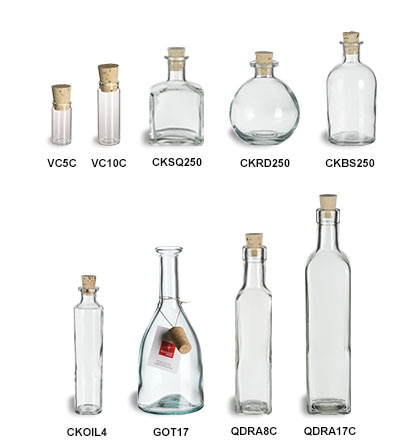glass_bottle: (298, 191, 358, 419), (135, 237, 208, 417), (227, 232, 282, 419), (226, 47, 309, 150), (322, 23, 380, 152), (144, 45, 209, 151), (68, 268, 109, 420), (88, 58, 126, 148), (47, 79, 75, 152)
